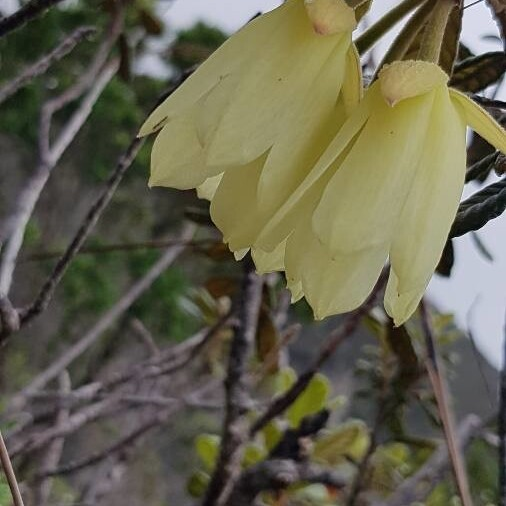obstacle: (116, 14, 489, 334)
